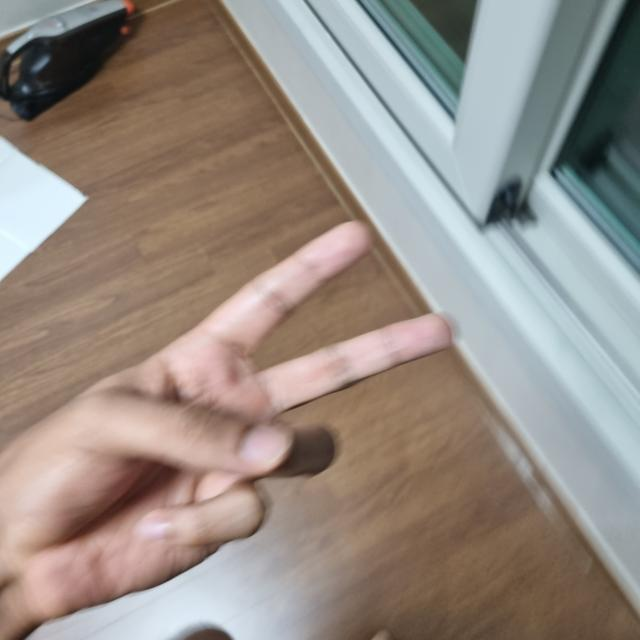Scissors: (2, 221, 437, 634)
